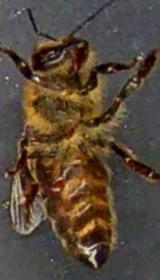varroa_mite: (46, 170, 67, 197)
